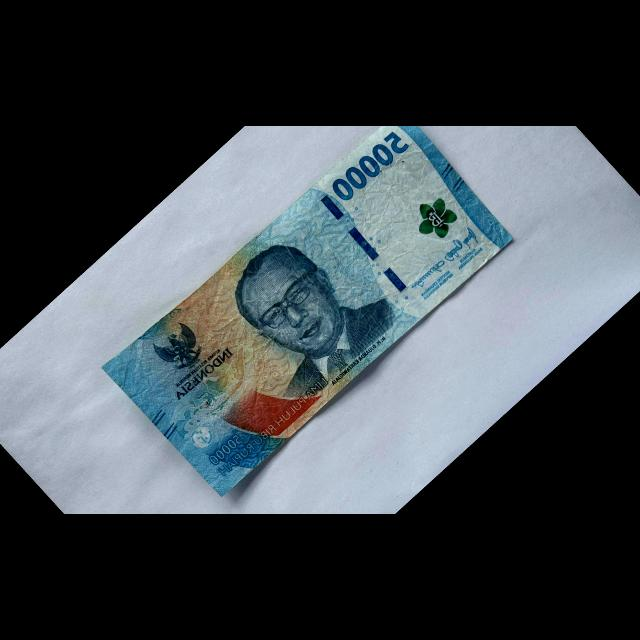Palsu-50k: (96, 100, 518, 505)
Tinta-Palsu-50k: (404, 189, 464, 249)
